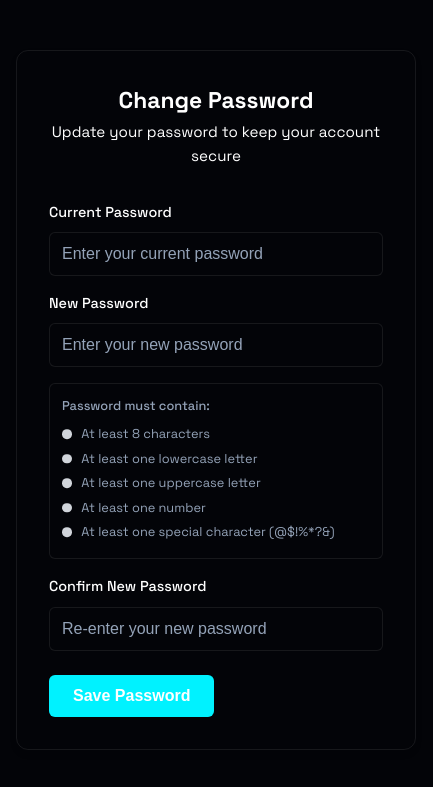
ChangePasswordForm › Form submission › should validate password requirements before submission
Type "OldPass123!" into the password field labelled "Current Password" at (216,254), box [49,232,383,276]
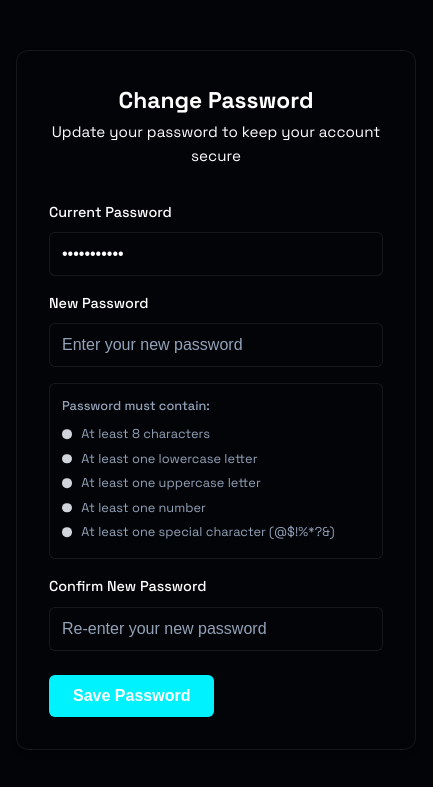
Type "weak" into the password field labelled "New Password" at (216,345), box [49,323,383,367]
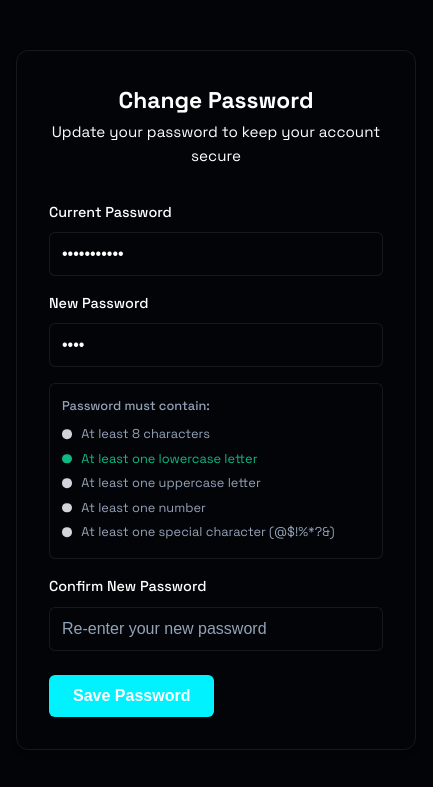
Type "weak" into the password field labelled "Confirm New Password" at (216,628), box [49,606,383,650]
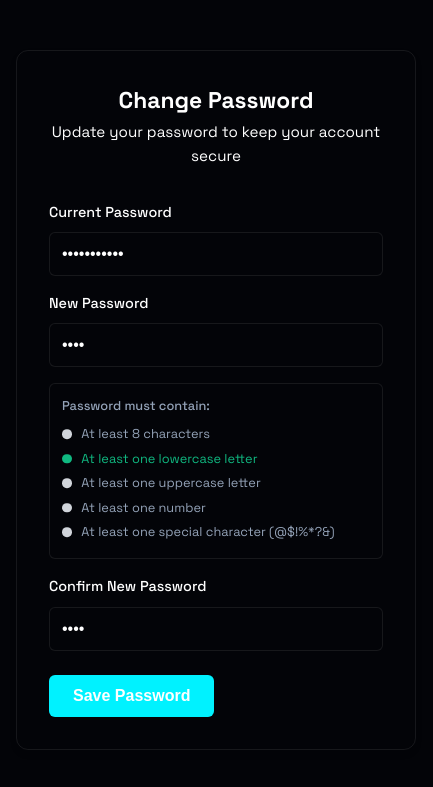
Click the button "Save Password" at (132,696), box [49,674,214,716]
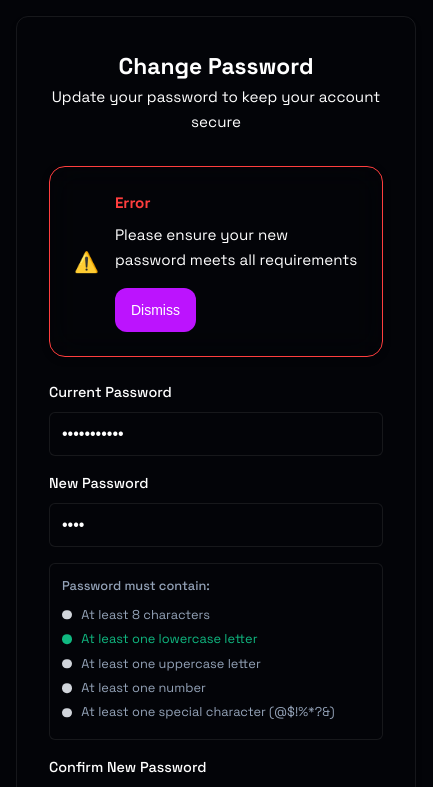
Expected: the text "Please ensure your new password meets all requirements" is shown, [115,223,358,272]
